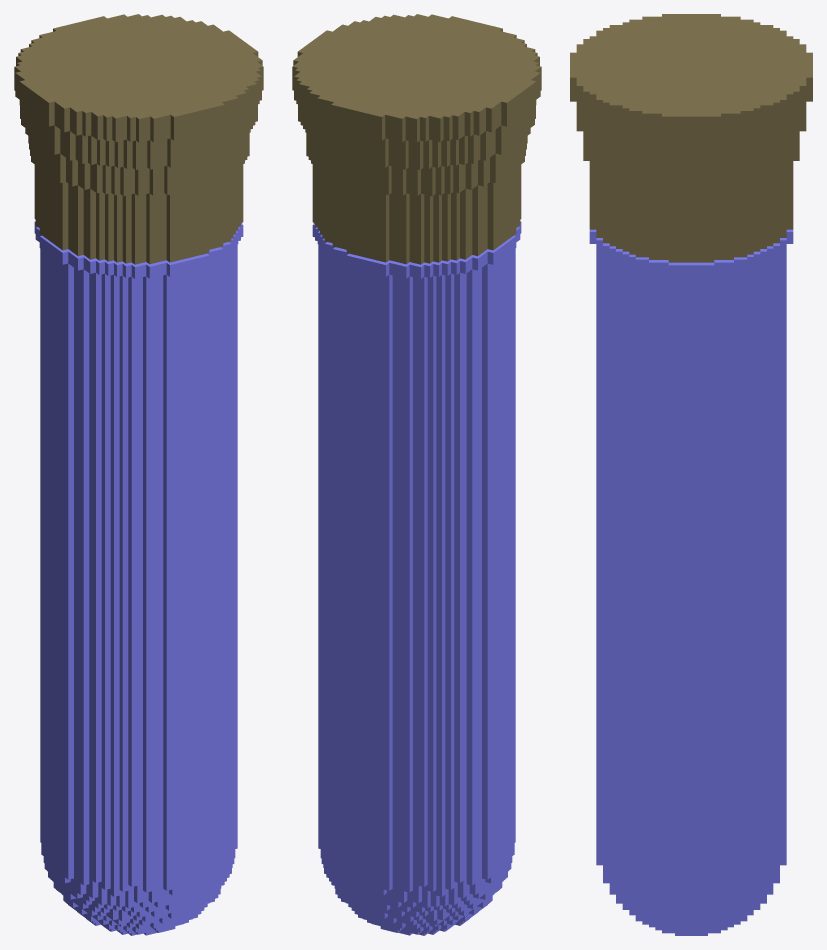
File: HP_Item2-1.fbx
The picture shows the model from 3 angles, left to right: view 1: azimuth 30°, elevation 25°; view 2: azimuth 150°, elevation 25°; view 3: azimuth 270°, elevation 25°; orthographic projection.
Parts seen in each view (by area): view 1: HP_Item2-1.001, HP_Item2-1.002; view 2: HP_Item2-1.001, HP_Item2-1.002; view 3: HP_Item2-1.001, HP_Item2-1.002.
Part boxes in pixels (x1,y1,x2,y2): HP_Item2-1.001: (34,221,243,935); HP_Item2-1.002: (14,14,263,264); HP_Item2-1.001: (312,221,521,935); HP_Item2-1.002: (292,14,541,264); HP_Item2-1.001: (589,229,793,935); HP_Item2-1.002: (570,14,812,262).
Bounding box in the file's own units: 3.7 × 14.44 × 3.7.
